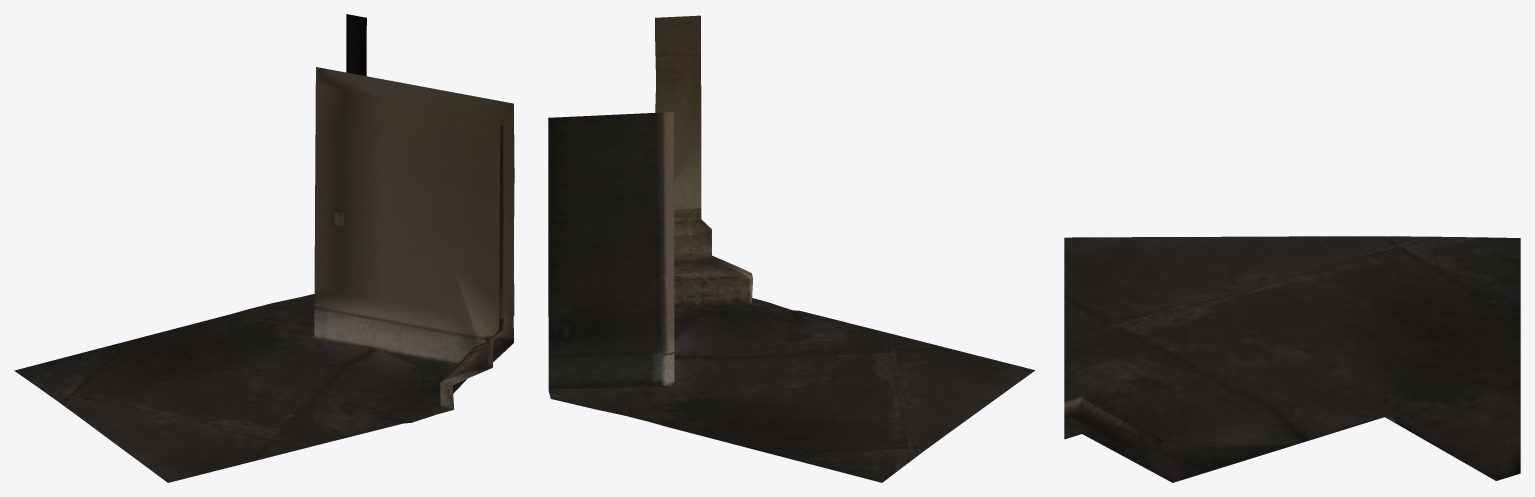
The picture shows the model from 3 angles, left to right: view 1: azimuth 30°, elevation 25°; view 2: azimuth 150°, elevation 25°; view 3: azimuth 270°, elevation 25°; orthographic projection. The views are drawn at different scales.
Bounding box in the file's own units: 2.85 × 2.05 × 2.08.
Materials: 1 (1 with a texture image).
